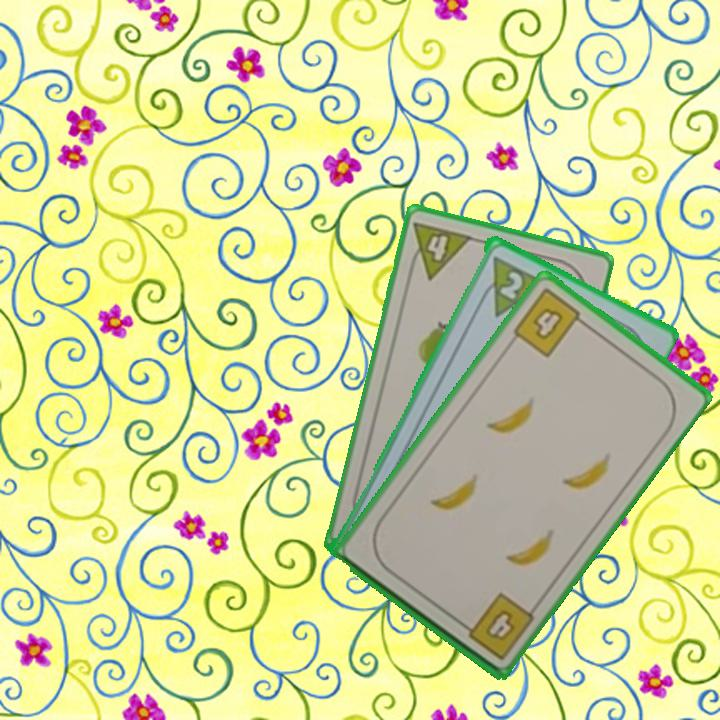2p: (473, 251, 547, 319)
4b: (509, 284, 591, 360), (455, 588, 538, 663)
4p: (404, 217, 475, 282)
